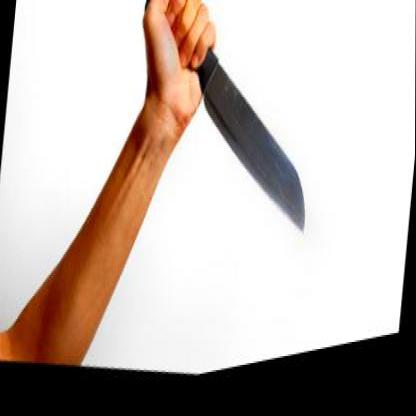knife: (149, 0, 328, 277)
